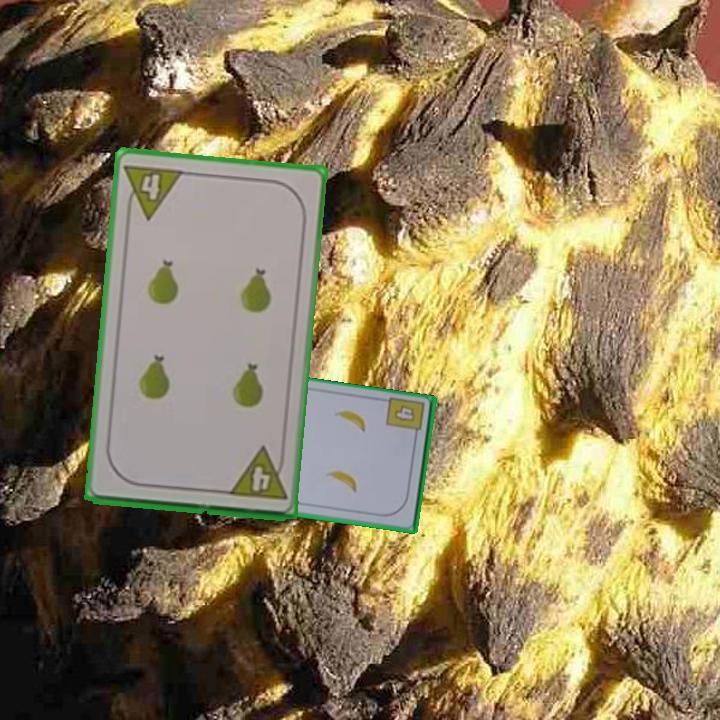4b: (383, 394, 428, 443)
4p: (121, 160, 186, 222), (224, 444, 290, 503)
